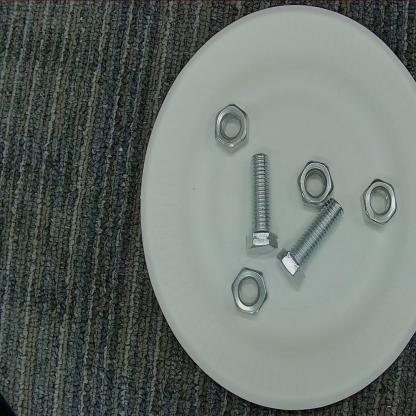FOD: (274, 194, 348, 295), (235, 148, 280, 261), (226, 265, 275, 320), (293, 156, 340, 211), (359, 173, 402, 230), (214, 98, 249, 160)
